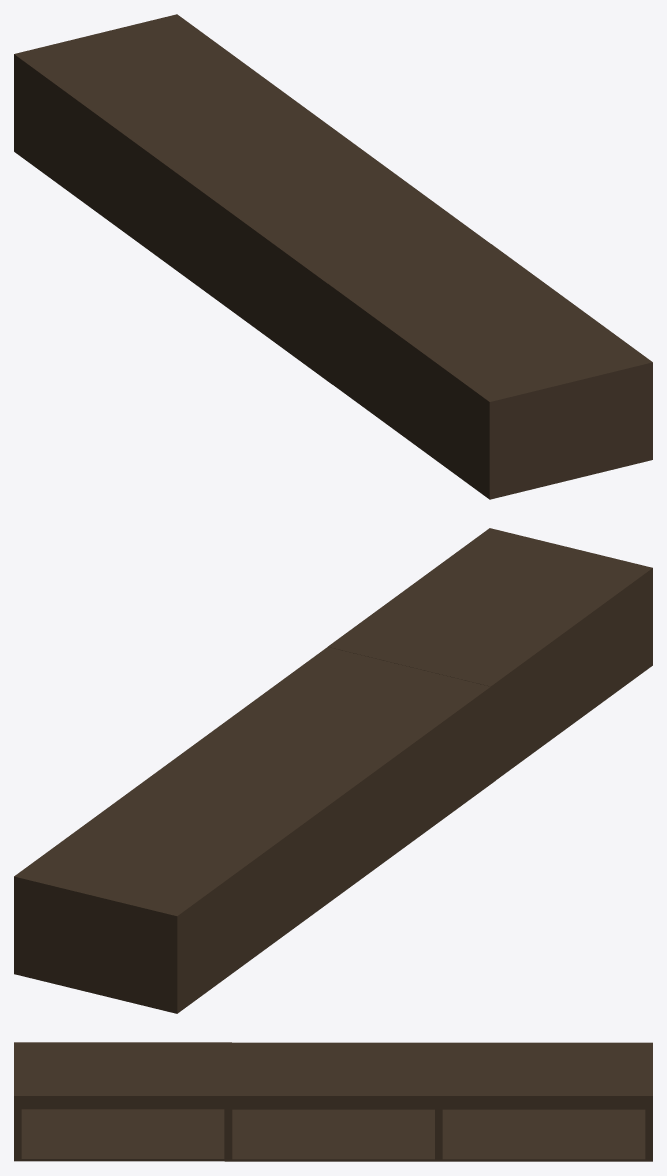
The model's file is Cabinet.fbx.
3 views of the same model, one above another, from view 1: azimuth 30°, elevation 25°; view 2: azimuth 150°, elevation 25°; view 3: azimuth 270°, elevation 25° (orthographic). The views are drawn at different scales.
Visible parts, largest first — view 1: pCube3, pCube1, pCube2; view 2: pCube1, pCube3, pCube2; view 3: pCube3, pCube1, pCube2.
Boxes of the visible parts, left/top/right/bottom form: pCube3: left=327, top=243, right=652, bottom=499; pCube1: left=14, top=14, right=338, bottom=265; pCube2: left=170, top=129, right=489, bottom=382; pCube1: left=14, top=759, right=336, bottom=1013; pCube3: left=328, top=528, right=652, bottom=779; pCube2: left=171, top=647, right=495, bottom=898; pCube3: left=14, top=1042, right=231, bottom=1161; pCube1: left=435, top=1042, right=652, bottom=1161; pCube2: left=225, top=1042, right=442, bottom=1161.
Size of the model in its own units: 3.11 by 1.78 by 15.69.
